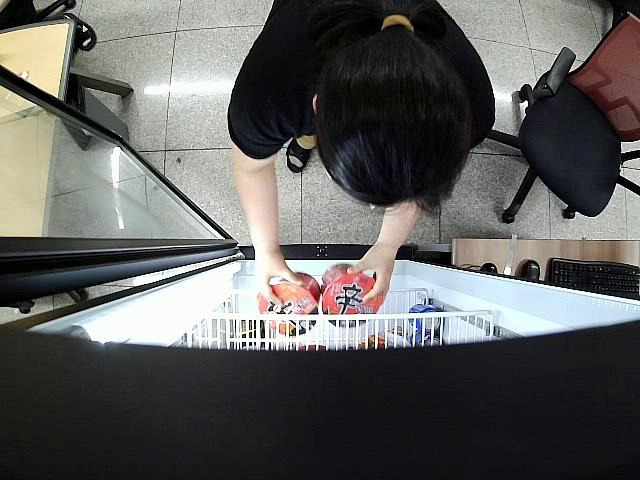00_hand: (253, 248, 306, 309), (346, 247, 393, 306)
01_shinRamen_L: (258, 273, 320, 338), (320, 263, 381, 327)
